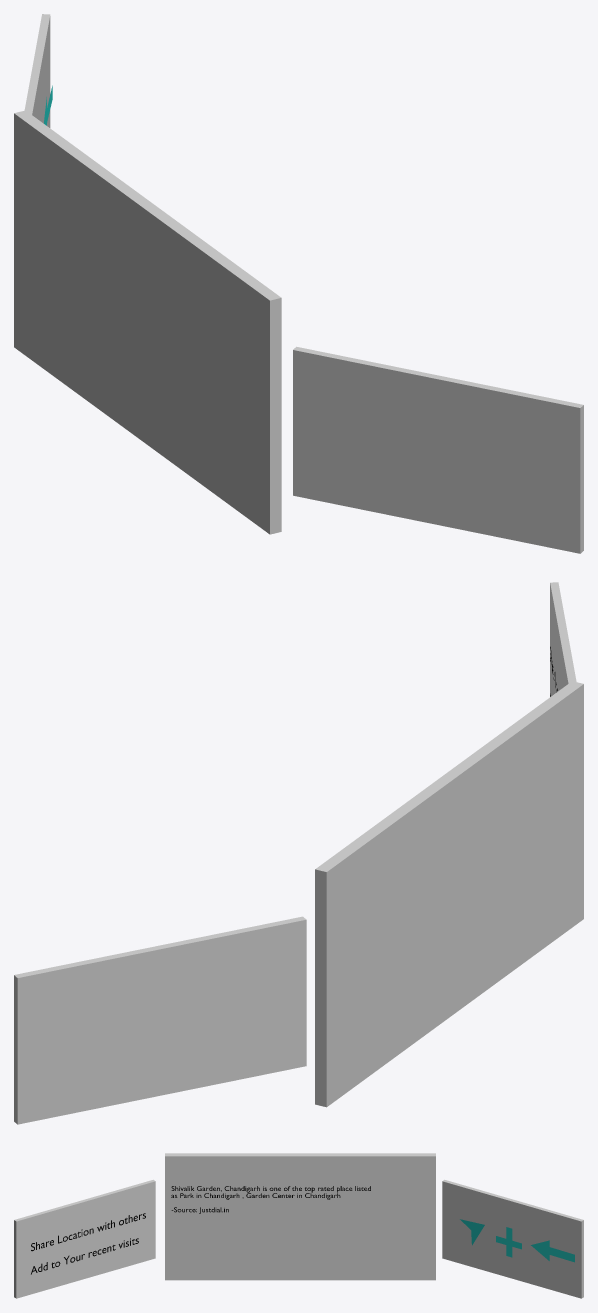
Rendered from park.fbx.
3 renders of one model, top to bottom at view 1: azimuth 30°, elevation 25°; view 2: azimuth 150°, elevation 25°; view 3: azimuth 270°, elevation 25°, orthographic. The views are drawn at different scales.
Visible parts, largest first — view 1: Cube.002; view 2: Cube.002; view 3: Cube.002, Text, Text.001, Plane.002, Plane.001, Plane.
Boxes of the visible parts, box(x1,y1,x2,y2) form: Cube.002: box(14, 14, 583, 553); Cube.002: box(14, 582, 583, 1124); Cube.002: box(14, 1153, 583, 1298); Text: box(171, 1186, 370, 1213); Text.001: box(31, 1213, 145, 1274); Plane.002: box(531, 1240, 574, 1262); Plane.001: box(496, 1227, 521, 1257); Plane: box(460, 1219, 484, 1245).
Size of the model in its own units: 110 by 141 by 588.
